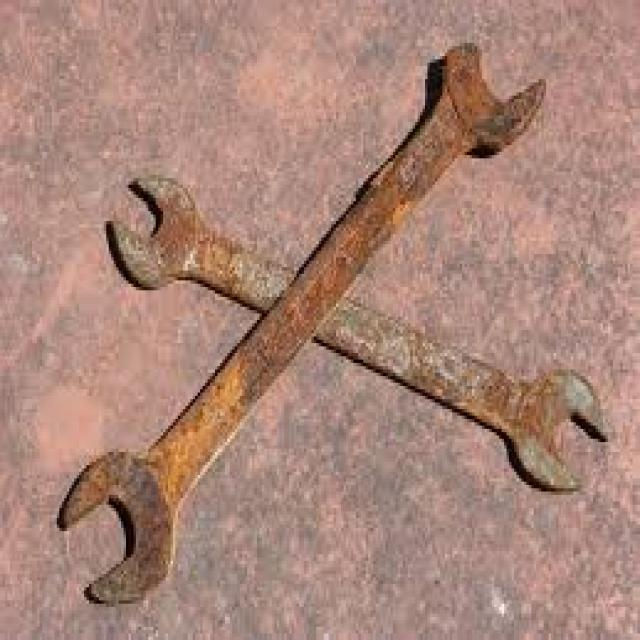wrench: (67, 42, 563, 615), (122, 145, 640, 501)
